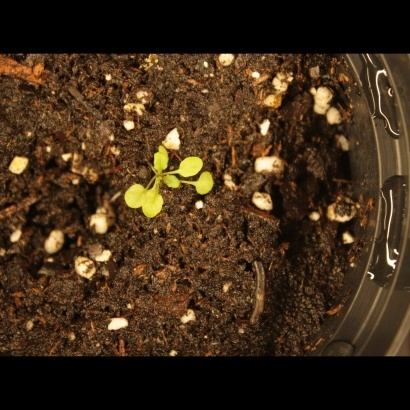leaf: (177, 153, 207, 180), (142, 188, 165, 222), (121, 184, 150, 210), (148, 142, 171, 174), (195, 172, 218, 200), (166, 173, 189, 196)
